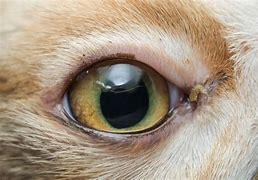eye_infection: (52, 54, 199, 138)
